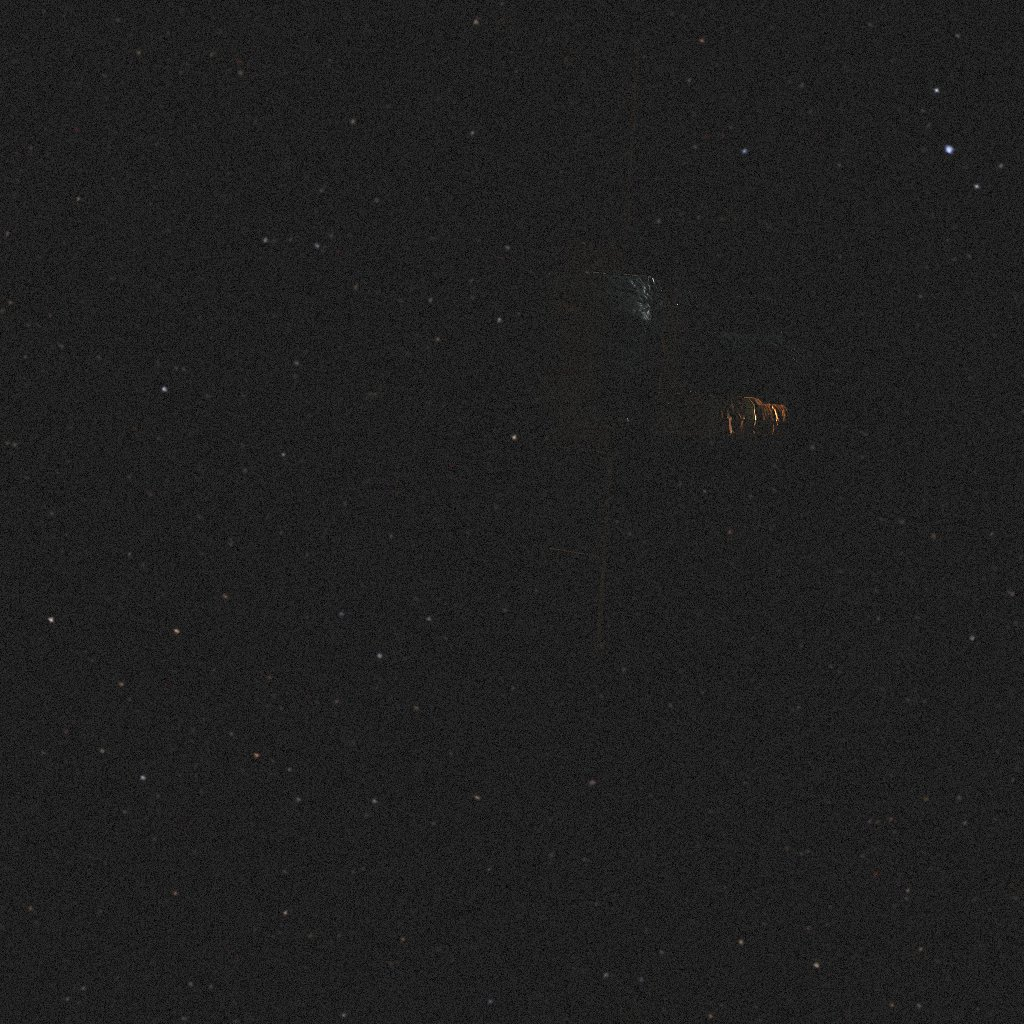soho: (515, 37, 809, 655)
